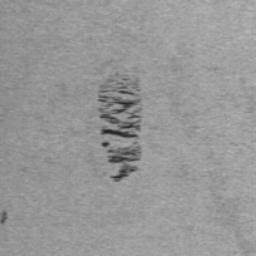Secondary rust skin: (97, 94, 143, 140), (100, 140, 143, 183)
